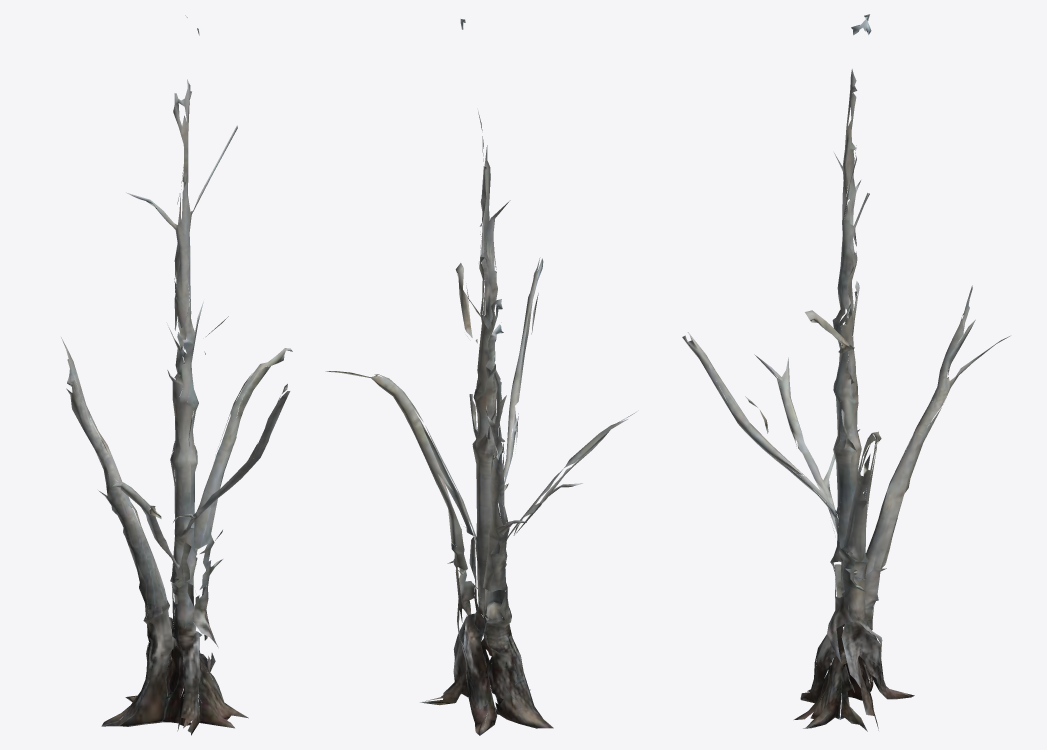
Rendered from betula_gelida_adulta-lod.glb.
3 views of the same model, side by side, from view 1: azimuth 30°, elevation 25°; view 2: azimuth 150°, elevation 25°; view 3: azimuth 270°, elevation 25° (orthographic).
Parts seen in each view (by area): view 1: geometry_0.1761; view 2: geometry_0.1761; view 3: geometry_0.1761.
Boxes of the visible parts, <box> form: geometry_0.1761: <box>61,15,292,735</box>; geometry_0.1761: <box>325,19,635,735</box>; geometry_0.1761: <box>682,14,1009,731</box>.
Size of the model in its own units: 0.3604 by 0.9314 by 0.4232.
1 material, 1 textured.
